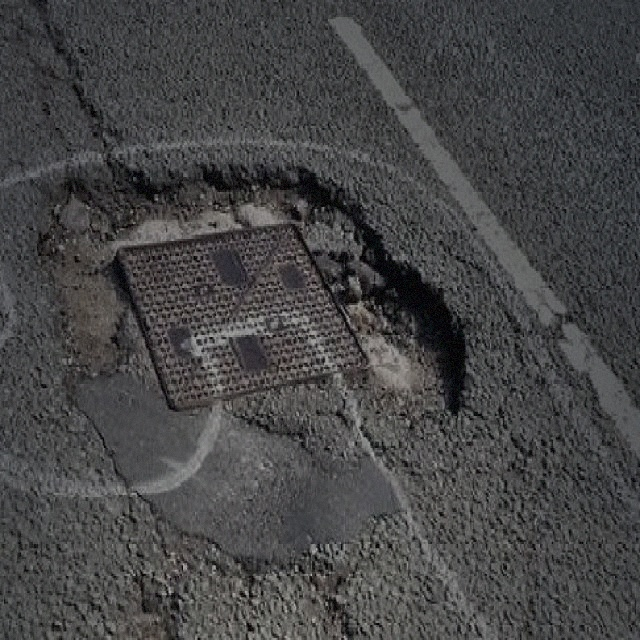pothole: (30, 154, 470, 420)
